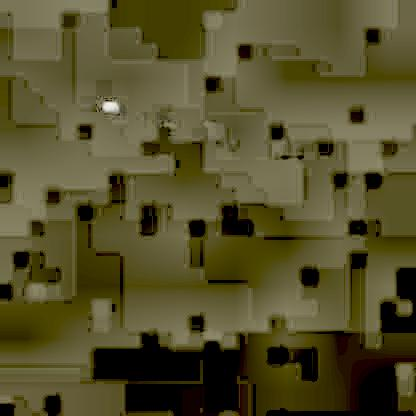golfball: (99, 97, 116, 113)
